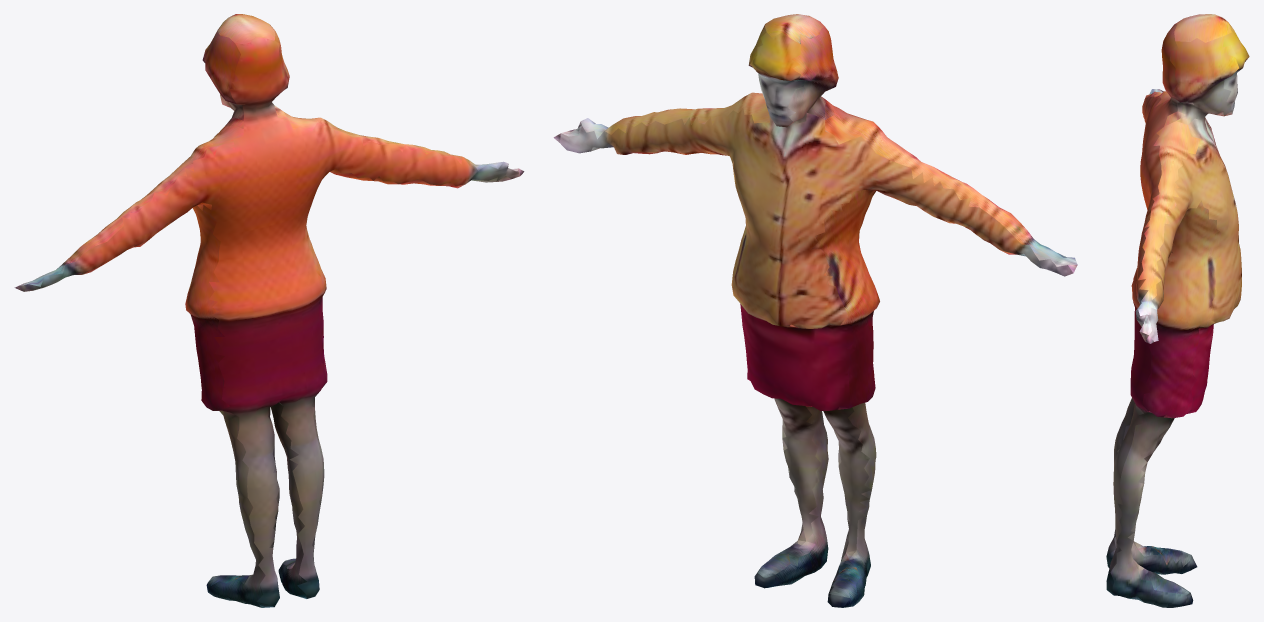
3 views of the same model, side by side, from view 1: azimuth 30°, elevation 25°; view 2: azimuth 150°, elevation 25°; view 3: azimuth 270°, elevation 25° (orthographic). The views are drawn at different scales.
Parts seen in each view (by area): view 1: world; view 2: world; view 3: world.
Part boxes in pixels (box(x1,y1,x2,y2)): world: box(14, 14, 524, 607); world: box(553, 14, 1077, 607); world: box(1106, 14, 1249, 607).
Bounding box in the file's own units: 0.944 × 1 × 0.2279.
1 material, 1 textured.
